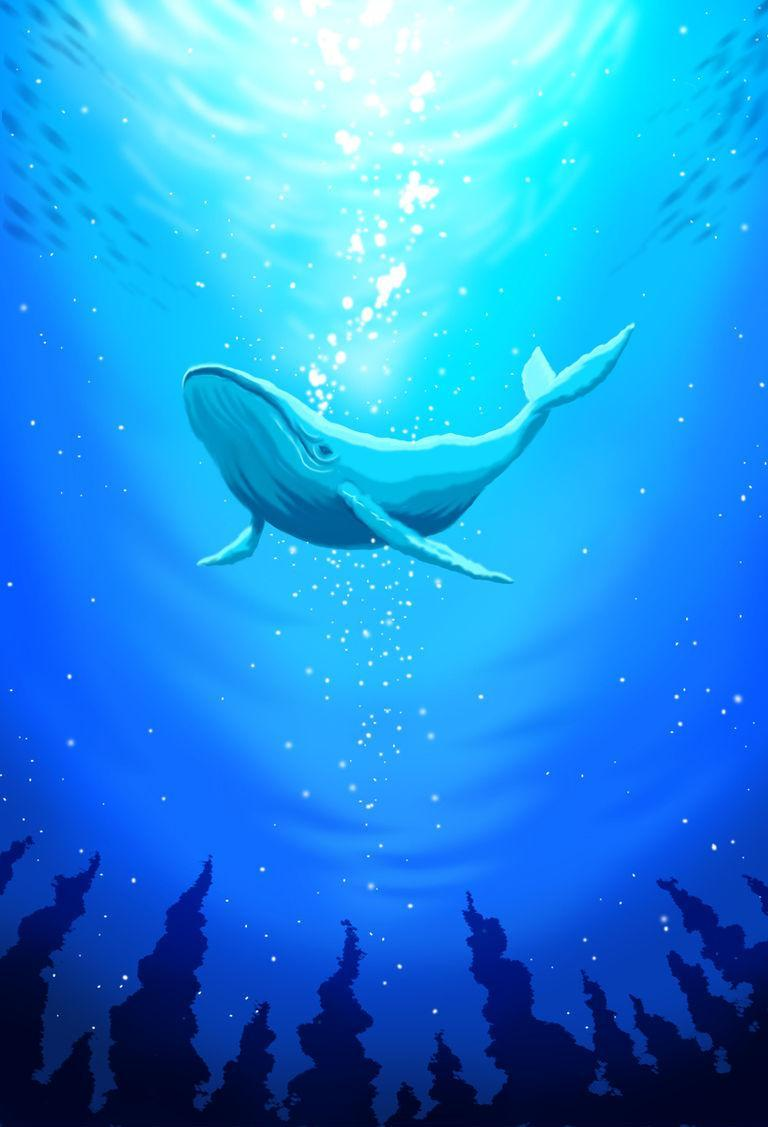fish: (143, 322, 647, 600)
